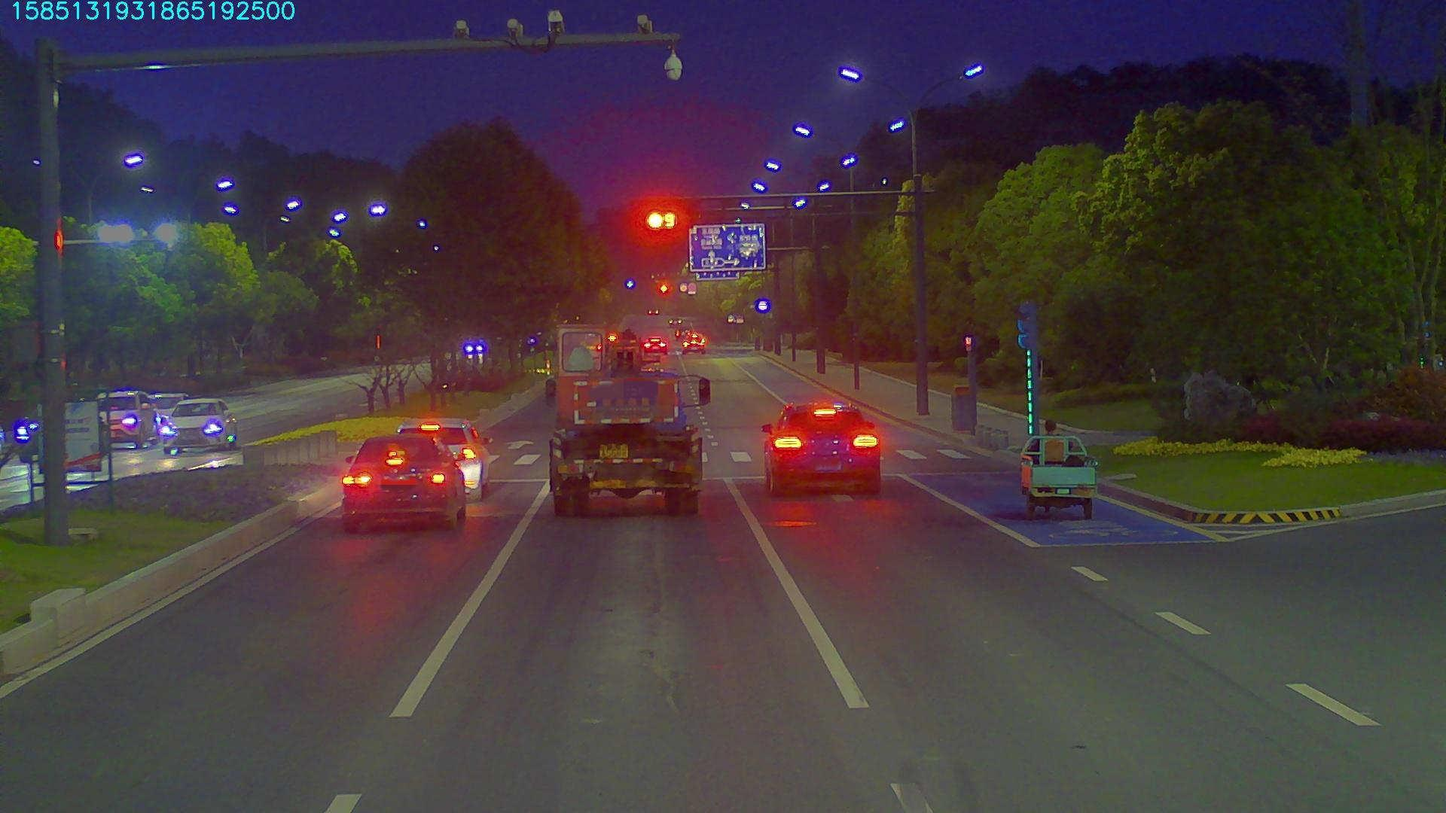red: (642, 206, 680, 233)
